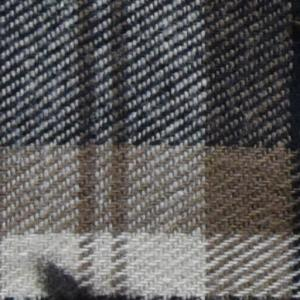Stain: (25, 248, 127, 300)
